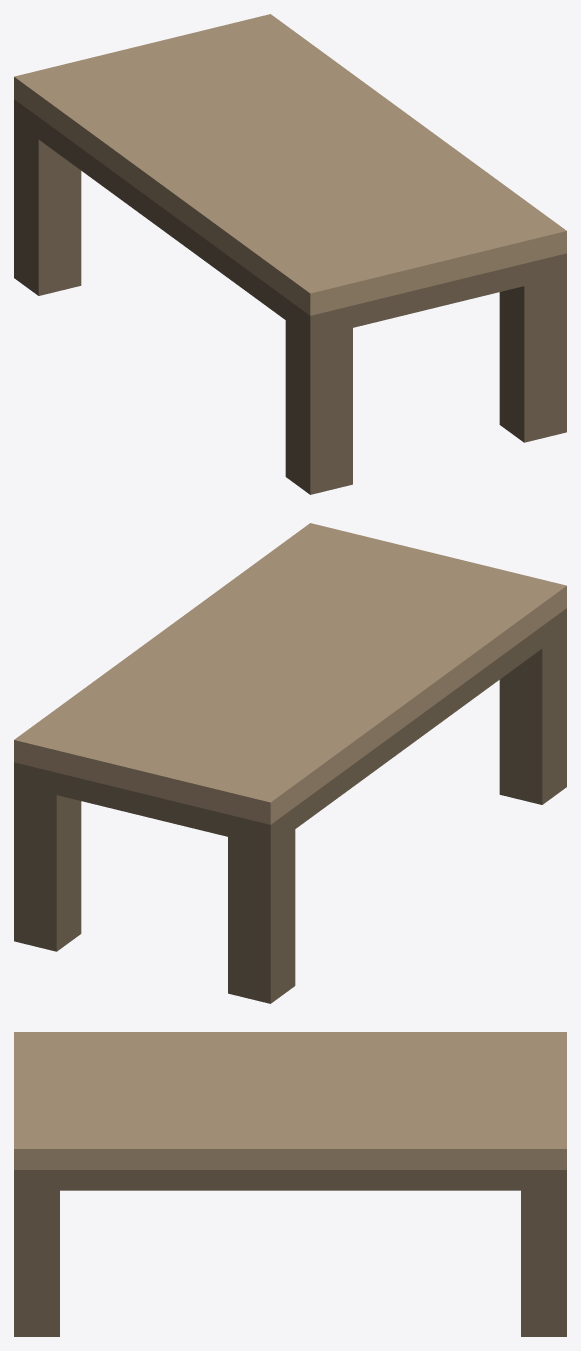
Rendered from mesa_estudio_academia_01.glb.
The picture shows the model from 3 angles, top to bottom: view 1: azimuth 30°, elevation 25°; view 2: azimuth 150°, elevation 25°; view 3: azimuth 270°, elevation 25°; orthographic projection. The views are drawn at different scales.
Parts seen in each view (by area): view 1: mesa_estudio_academia; view 2: mesa_estudio_academia; view 3: mesa_estudio_academia.
Part boxes in pixels (x1,y1,x2,y2): mesa_estudio_academia: [14, 14, 566, 494]; mesa_estudio_academia: [14, 523, 566, 1003]; mesa_estudio_academia: [14, 1032, 566, 1336].
Bounding box in the file's own units: 1 × 0.75 × 2.
